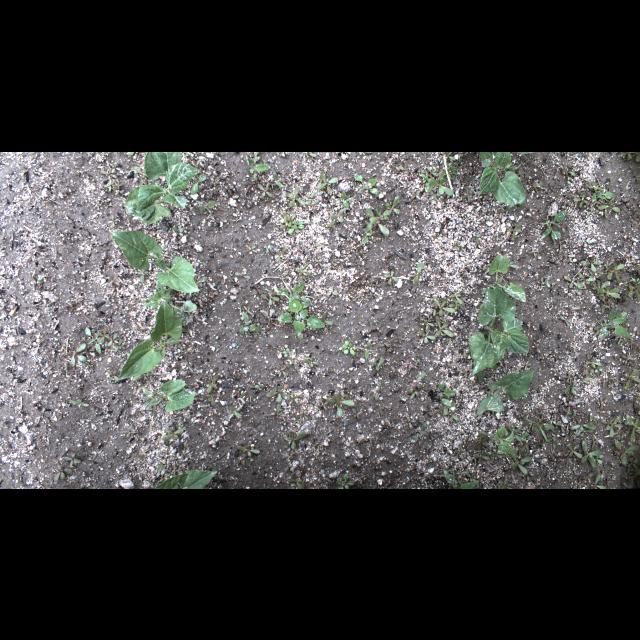crop: (466, 285, 530, 381), (111, 229, 199, 295), (125, 152, 202, 225), (118, 300, 184, 380), (474, 368, 536, 414), (477, 152, 527, 206), (143, 280, 200, 326), (140, 378, 196, 414), (487, 254, 527, 302), (150, 469, 222, 488)
weed: (273, 280, 333, 340), (570, 181, 618, 211), (433, 380, 461, 422), (594, 307, 630, 339), (362, 206, 392, 244), (492, 424, 530, 454), (421, 166, 457, 197), (540, 203, 568, 241), (568, 442, 604, 471), (324, 388, 356, 420), (268, 382, 296, 418), (568, 260, 598, 292), (528, 410, 556, 442), (613, 438, 637, 474), (355, 170, 383, 200), (556, 402, 580, 436), (569, 416, 599, 440), (238, 312, 264, 338), (66, 341, 90, 369), (508, 452, 536, 476), (598, 199, 626, 223), (409, 418, 436, 442), (85, 324, 105, 356), (246, 152, 272, 176), (316, 168, 340, 194), (99, 326, 123, 352), (280, 428, 306, 452), (53, 458, 75, 486), (227, 391, 247, 421), (470, 430, 490, 460), (279, 210, 305, 233), (596, 280, 620, 304), (582, 358, 606, 382), (432, 296, 458, 318), (562, 370, 580, 400), (432, 318, 456, 340), (604, 258, 628, 280), (56, 449, 85, 467), (446, 471, 478, 487), (160, 426, 188, 444), (384, 193, 402, 220), (189, 172, 211, 194), (287, 184, 309, 206), (334, 189, 358, 209), (410, 255, 426, 285), (406, 374, 426, 398), (557, 306, 581, 326), (418, 320, 436, 346), (236, 439, 262, 455), (258, 288, 278, 308), (340, 340, 360, 360), (326, 210, 346, 230), (604, 415, 624, 435), (559, 165, 581, 183), (67, 398, 93, 412), (373, 354, 387, 380), (303, 354, 325, 370), (358, 339, 374, 361), (622, 365, 638, 387), (256, 179, 274, 197), (338, 469, 357, 486), (100, 160, 120, 176), (204, 374, 220, 394), (380, 269, 400, 285), (503, 223, 523, 239), (590, 472, 610, 488), (450, 293, 468, 309), (627, 274, 637, 302), (197, 198, 216, 212), (370, 386, 384, 404), (366, 279, 386, 291), (627, 414, 637, 438), (272, 249, 288, 263), (272, 169, 286, 185), (105, 180, 119, 196), (442, 152, 456, 168), (468, 232, 484, 246), (155, 459, 169, 475), (106, 368, 120, 384), (274, 365, 288, 379), (172, 221, 184, 237), (295, 266, 311, 278), (540, 274, 552, 290), (231, 272, 253, 280), (282, 346, 294, 360), (309, 190, 319, 206), (452, 240, 464, 252), (37, 274, 49, 284), (314, 258, 324, 270)
